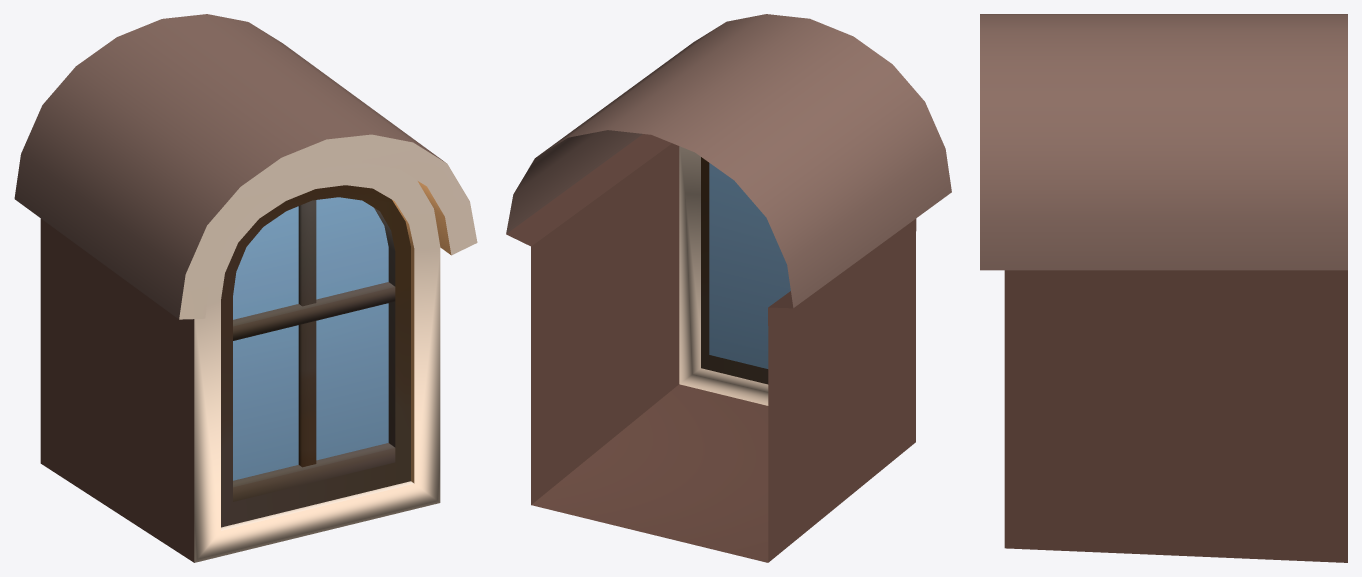
Rendered from Chimney02.fbx.
3 views of the same model, side by side, from view 1: azimuth 30°, elevation 25°; view 2: azimuth 150°, elevation 25°; view 3: azimuth 270°, elevation 25° (orthographic). The views are drawn at different scales.
Visible parts, largest first — view 1: Chimney02; view 2: Chimney02; view 3: Chimney02.
Boxes of the visible parts, box(x1,y1,x2,y2) form: Chimney02: box(14, 14, 477, 562); Chimney02: box(506, 14, 951, 562); Chimney02: box(980, 14, 1347, 562).
Bounding box in the file's own units: 0.3218 × 0.4277 × 0.3075.
